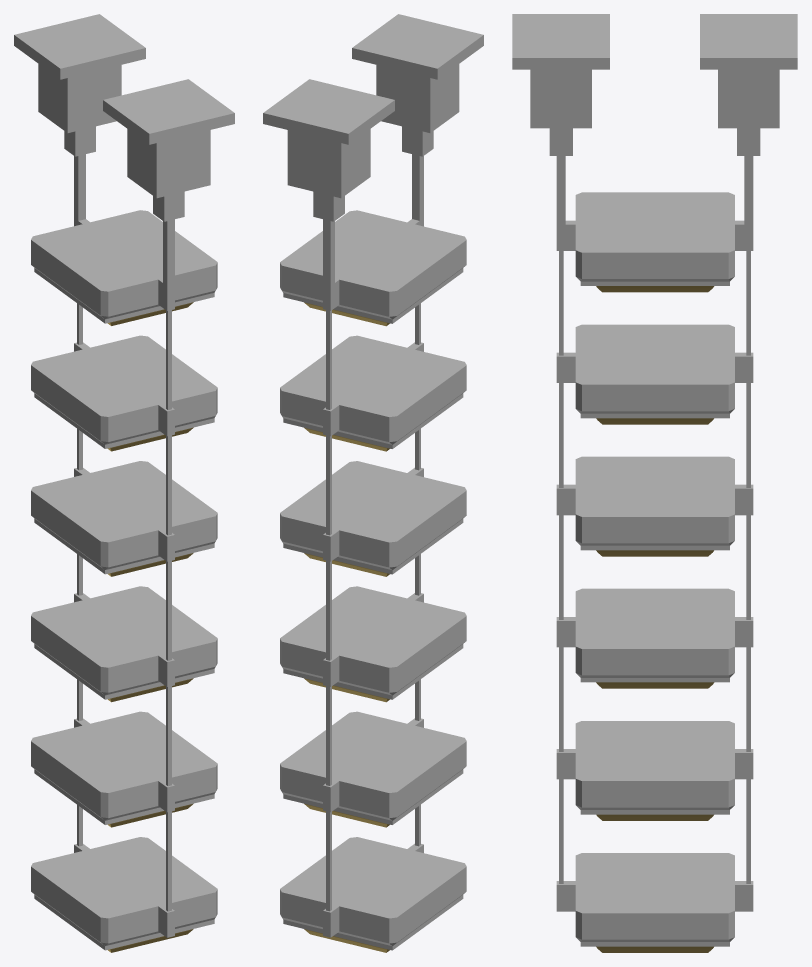
File: suspension_chain_1.fbx
3 views of the same model, side by side, from view 1: azimuth 30°, elevation 25°; view 2: azimuth 150°, elevation 25°; view 3: azimuth 270°, elevation 25° (orthographic). The views are drawn at different scales.
Visible parts, largest first — view 1: Cube.001; view 2: Cube.001; view 3: Cube.001.
Boxes of the visible parts, x1,y1,x2,y2 form: Cube.001: [14, 14, 234, 952]; Cube.001: [263, 14, 483, 952]; Cube.001: [512, 14, 797, 952].
Size of the model in its own units: 0.015 by 0.1047 by 0.03.
